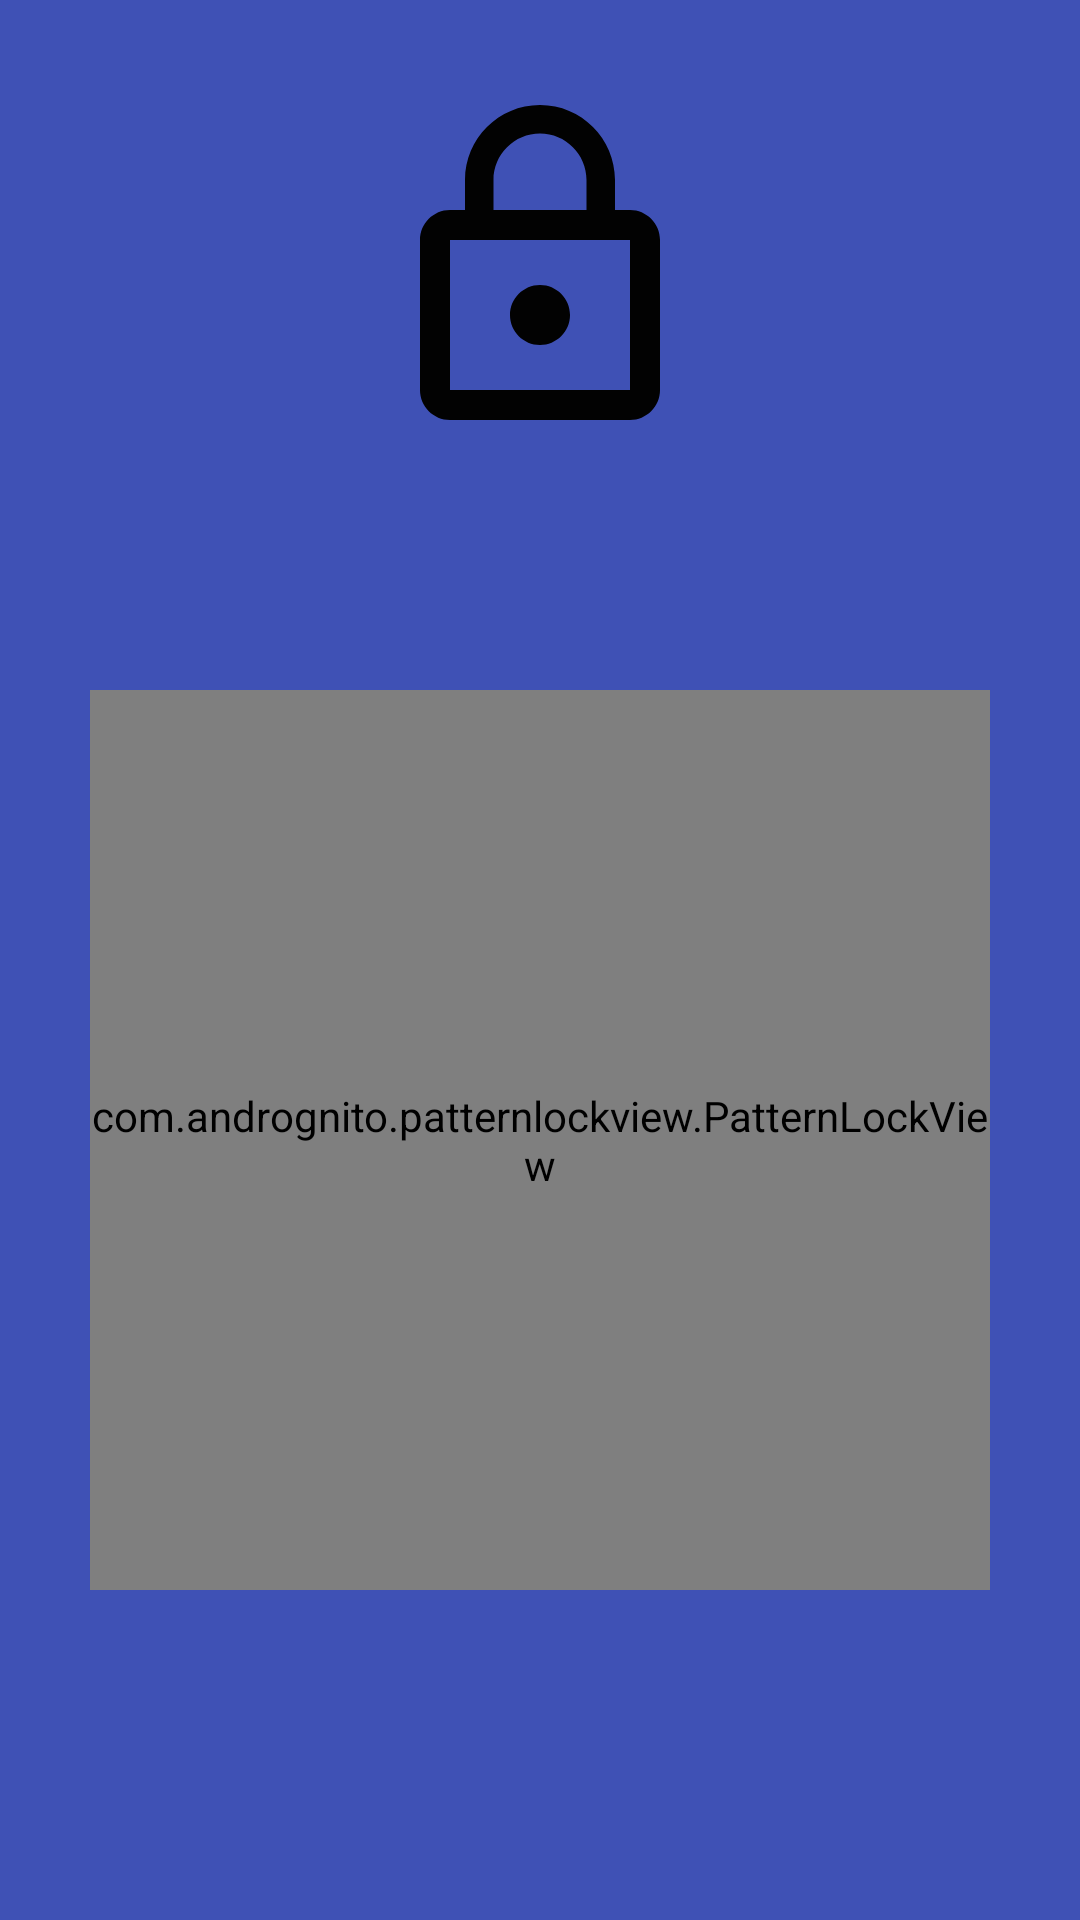

Point at icon controls on the screen. Image size 1080*1920, points as (x=x, y=y).
lock: (x=540, y=262)
